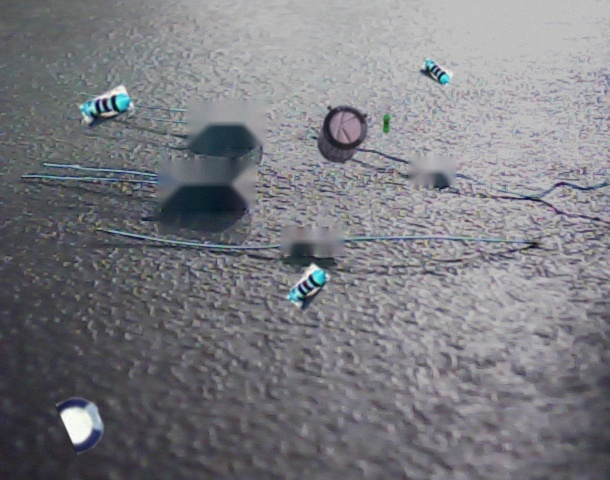capacitor: (317, 105, 368, 164), (56, 398, 103, 454)
resistor: (79, 84, 134, 129), (286, 263, 330, 311), (420, 58, 454, 87), (382, 114, 391, 134)
